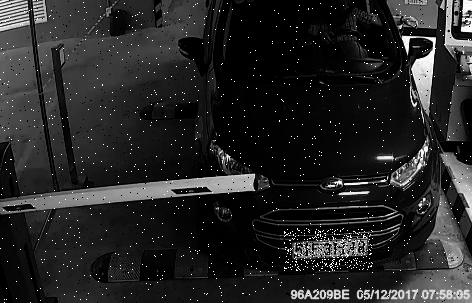License-plate: (285, 230, 374, 272)
